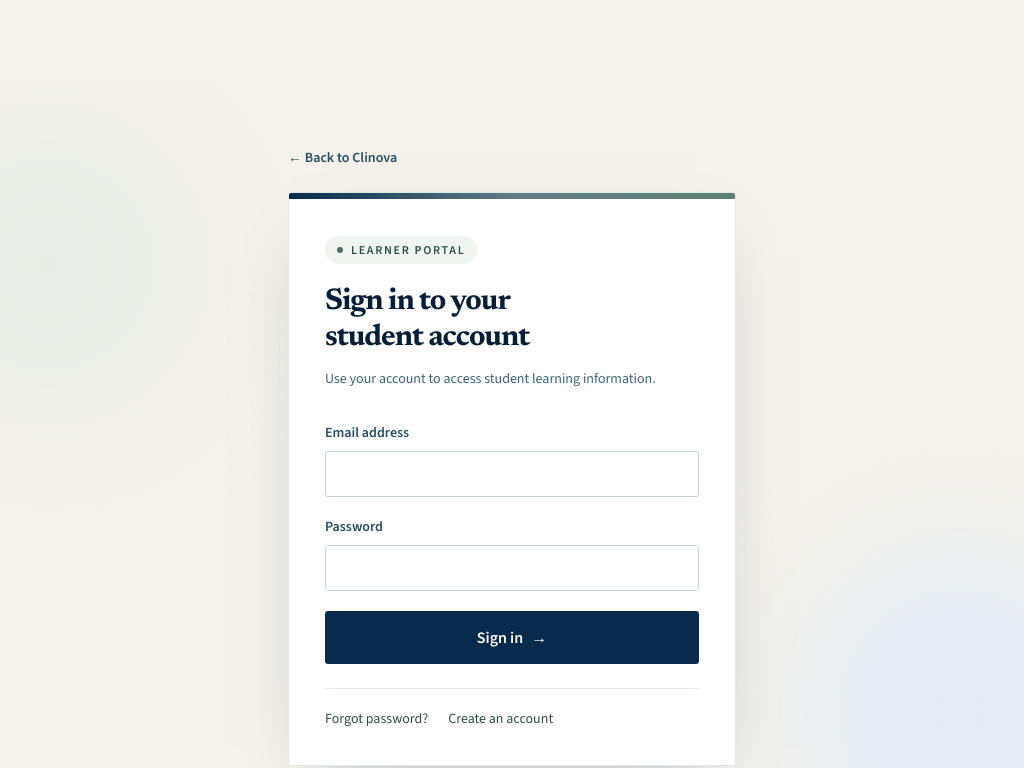
Scenario: safe return targets and AuthPage validation › maps an unconfirmed sign-in error to a resend path without revealing account existence
The image size is (1024, 768).
In the field labelled "Email address": [512, 474] box [325, 451, 699, 497], type "student@example.test"
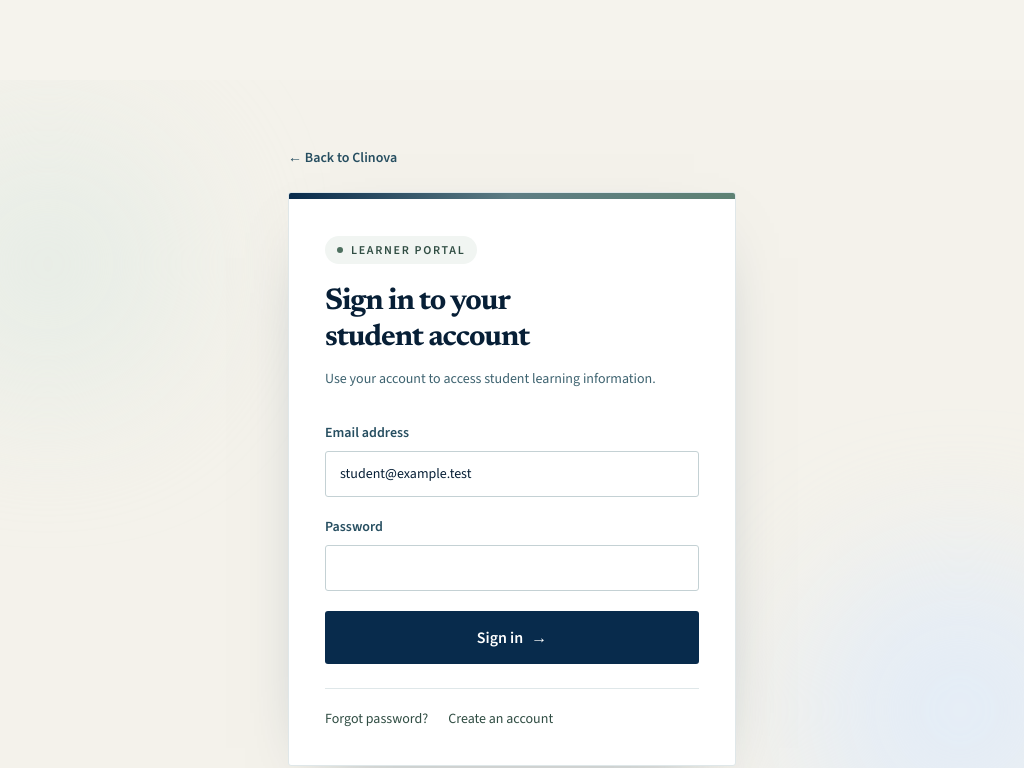
In the password field labelled "Password": [512, 568] box [325, 545, 699, 591], type "secret"
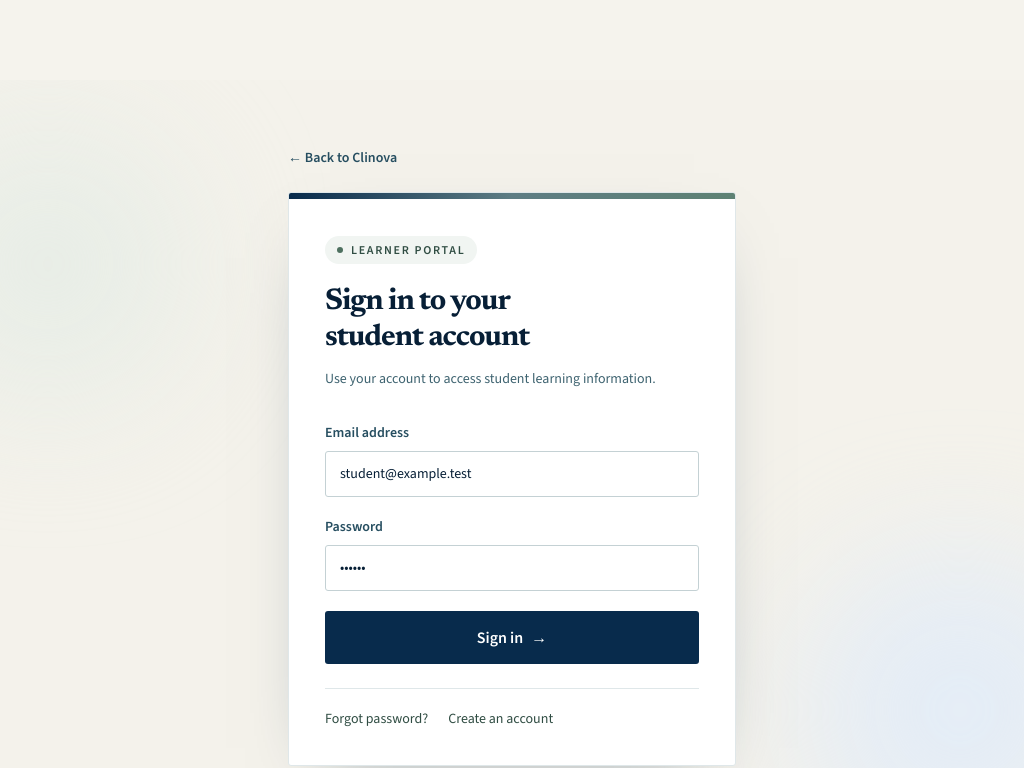
Submit the form, box [325, 423, 699, 664]
(page scrolled)
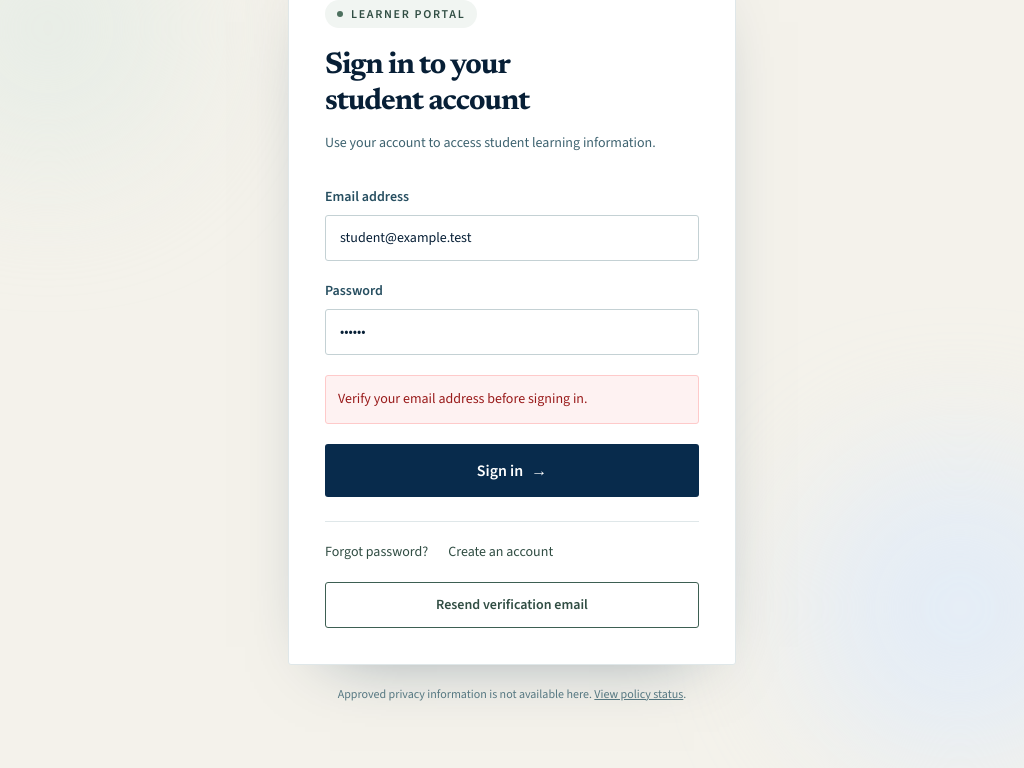
Check: the message shows "Verify your email address before signing in", box [338, 389, 588, 408]
Check: the button "Resend verification email" is shown, box [325, 582, 699, 628]
